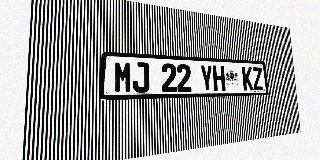2: (161, 63, 177, 92), (177, 64, 191, 92)
H: (212, 65, 226, 91)
J: (132, 62, 149, 93)
K: (242, 67, 254, 91)
M: (114, 61, 132, 93)
Y: (200, 65, 213, 91)
Z: (252, 67, 263, 90)
